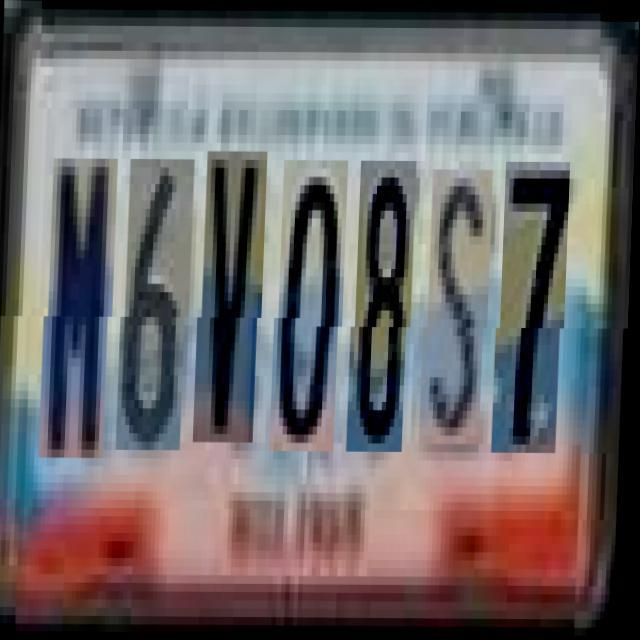6: (124, 159, 196, 450)
7: (499, 161, 571, 452)
8: (353, 160, 418, 452)
M: (46, 158, 119, 458)
O: (277, 160, 349, 451)
S: (427, 168, 494, 444)
V: (200, 151, 268, 442)
